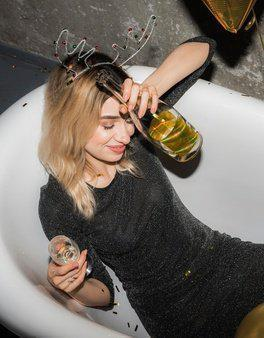Drunk: (70, 83, 134, 164)
